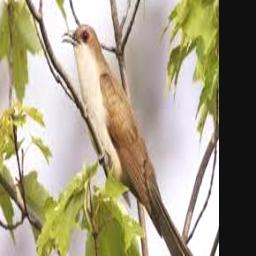Cuckoo: (61, 24, 211, 256)
